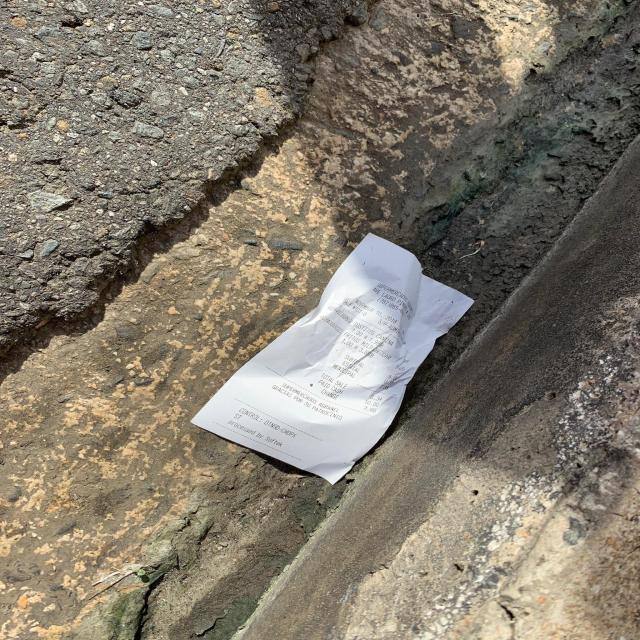litter: (187, 231, 474, 485)
